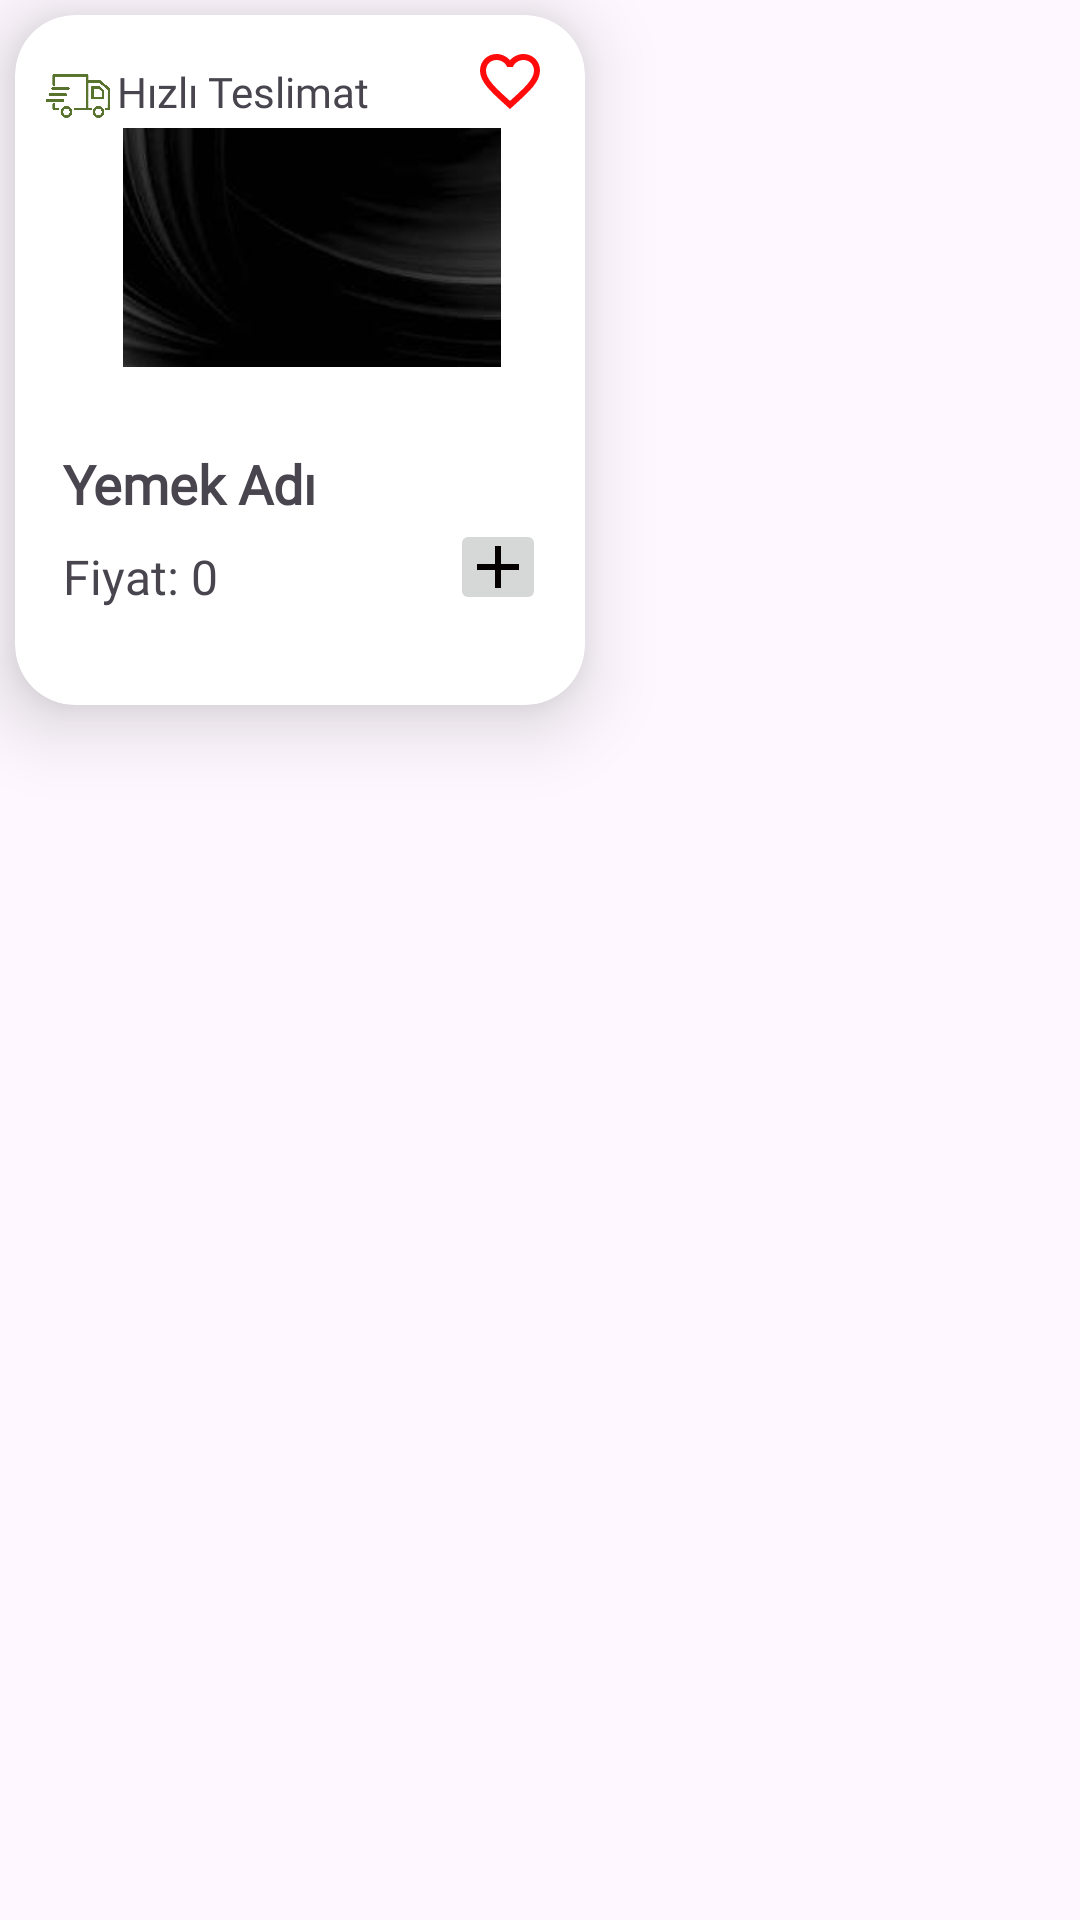

Icons on this 1080 × 1920 Android screen, each with its box as (x1, y1, x2, y2):
arttir: (462, 537, 534, 597)
fav: (480, 54, 540, 109)
kargo: (46, 74, 110, 118)
